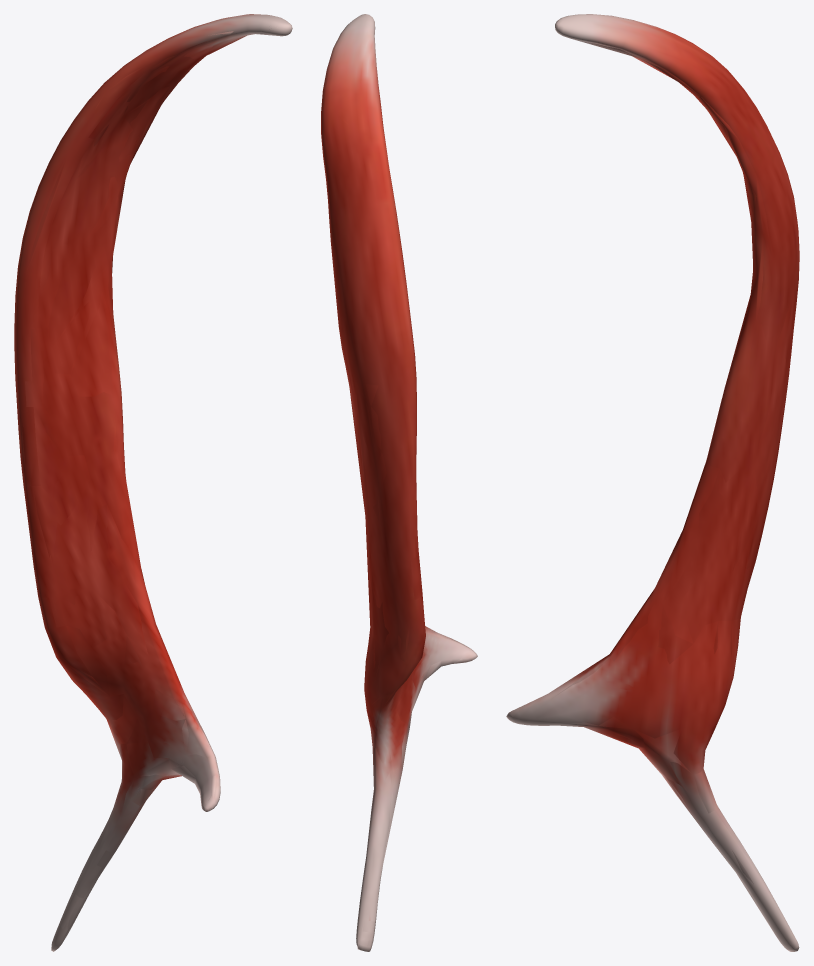
Rendered from R Semitendinosus.fbx.
3 views of the same model, side by side, from view 1: azimuth 30°, elevation 25°; view 2: azimuth 150°, elevation 25°; view 3: azimuth 270°, elevation 25° (orthographic). The views are drawn at different scales.
Parts seen in each view (by area): view 1: R Semitendinosus, R Semitendinosus low; view 2: R Semitendinosus, R Semitendinosus low; view 3: R Semitendinosus, R Semitendinosus low.
Boxes of the visible parts, bbox=[...] form: R Semitendinosus: bbox=[14, 14, 292, 951]; R Semitendinosus low: bbox=[15, 26, 291, 951]; R Semitendinosus: bbox=[321, 14, 477, 951]; R Semitendinosus low: bbox=[326, 68, 470, 950]; R Semitendinosus: bbox=[506, 14, 799, 951]; R Semitendinosus low: bbox=[550, 26, 799, 947].
Bounding box in the file's own units: 16.84 × 90.6 × 24.37.
